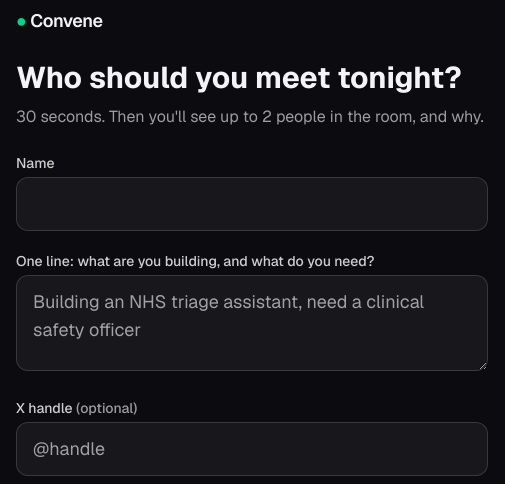
Test: JoinForm directory consent › shows a clear room-full state from the join endpoint
This screenshot has width=505, height=484.
Type "Priya Raman" into the field labelled "Name" at x=252, y=204, box [16,176,488,230]
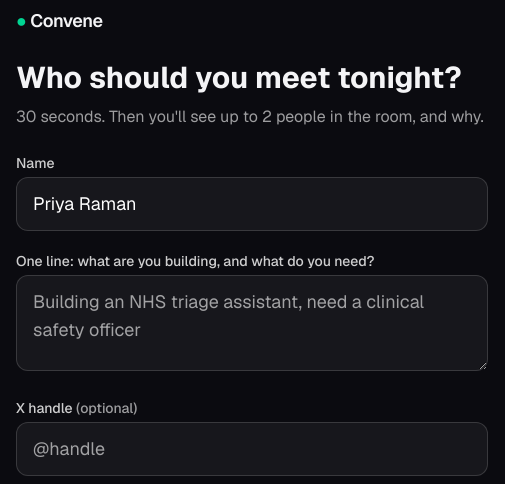
Replace the text in the text box labelled "One line: what are you building, and what do you need?" with "Building a useful tool and looking for design feedback" at x=252, y=322, box [16,274,488,370]
(page scrolled)
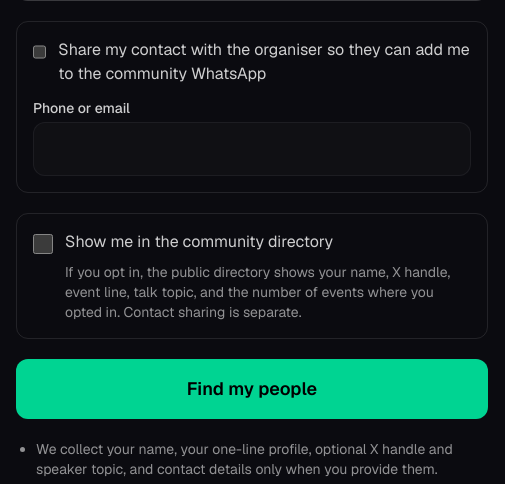
Click the button "Find my people" at x=252, y=388, box [16,358,488,418]
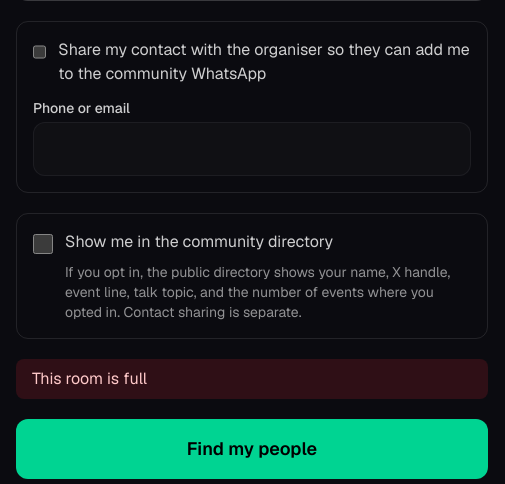
expect the message reads "This room is full": met, box [32,368,147,388]
